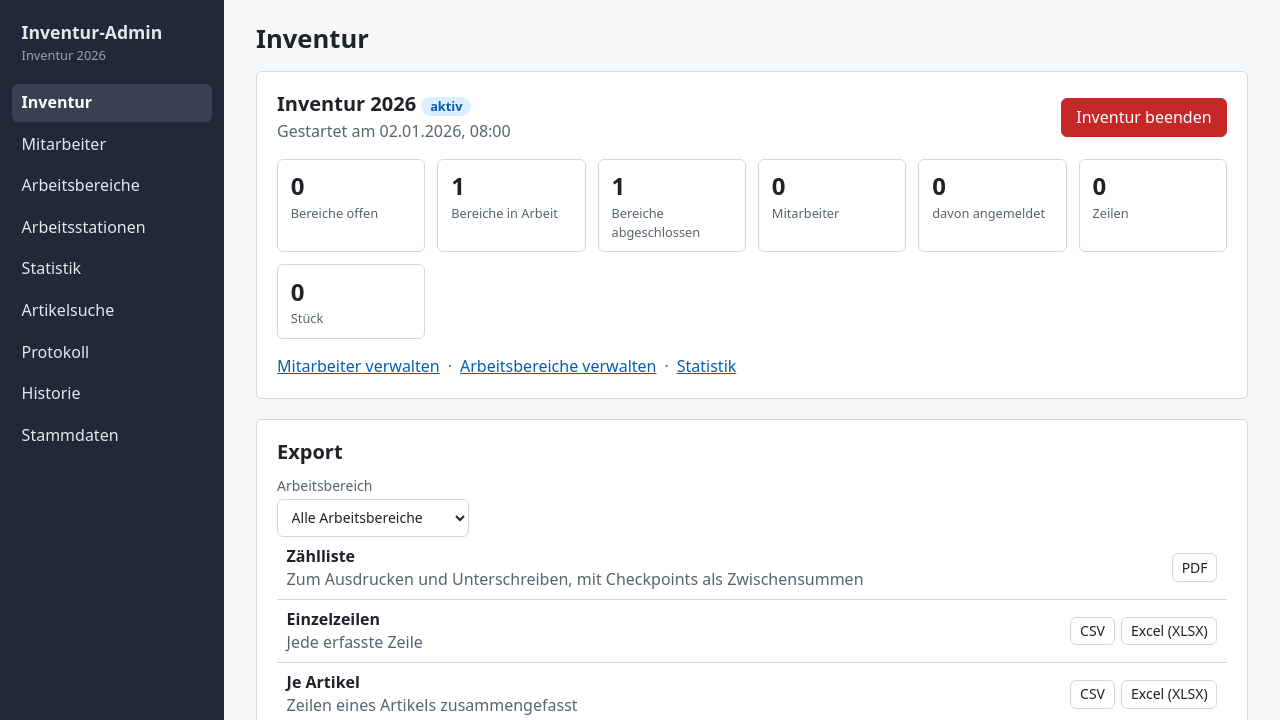
stocktake page › warns about unclosed work areas before finishing
The width and height of the screenshot is (1280, 720).
Step 1. Click the button "Inventur beenden" → (1144, 117), box [1061,98,1227,137]
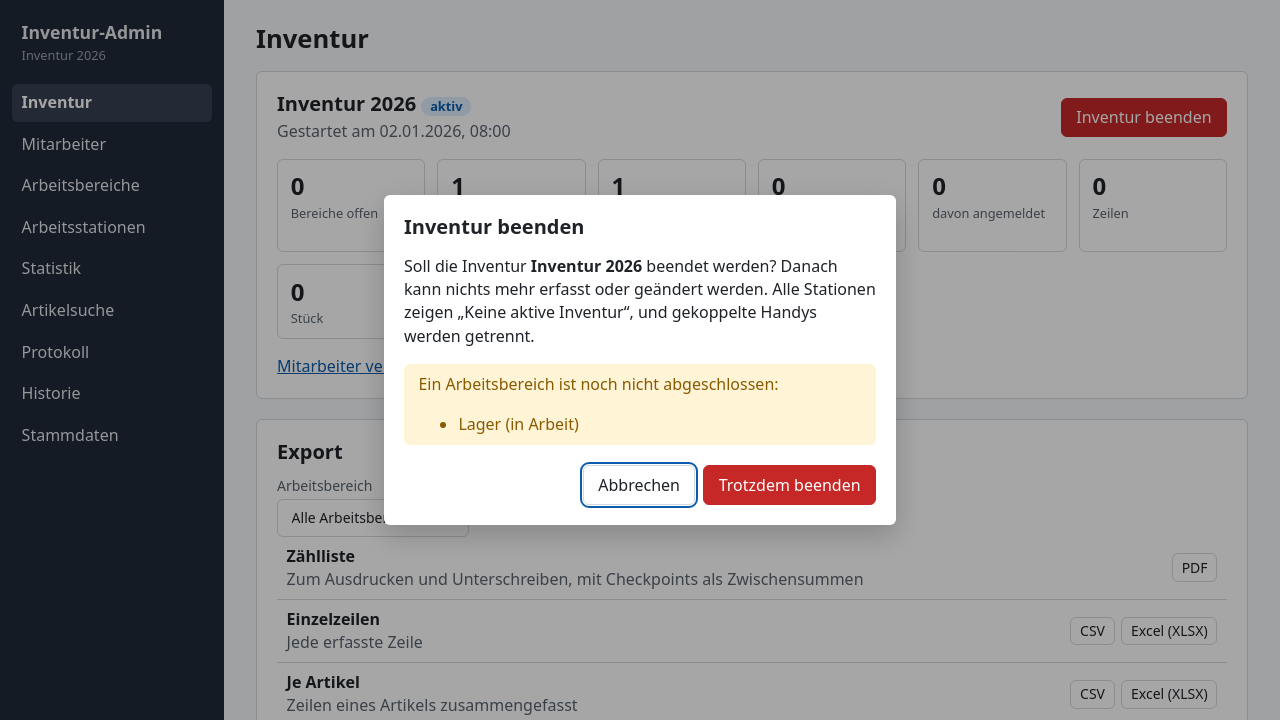
expect the message reads "Ein Arbeitsbereich ist noch nicht abgeschlossen: Lager (in Arbeit)": met, box [404,364,876,445]
Step 2. Click the button "Trotzdem beenden" → (790, 485), box [703,465,876,505]
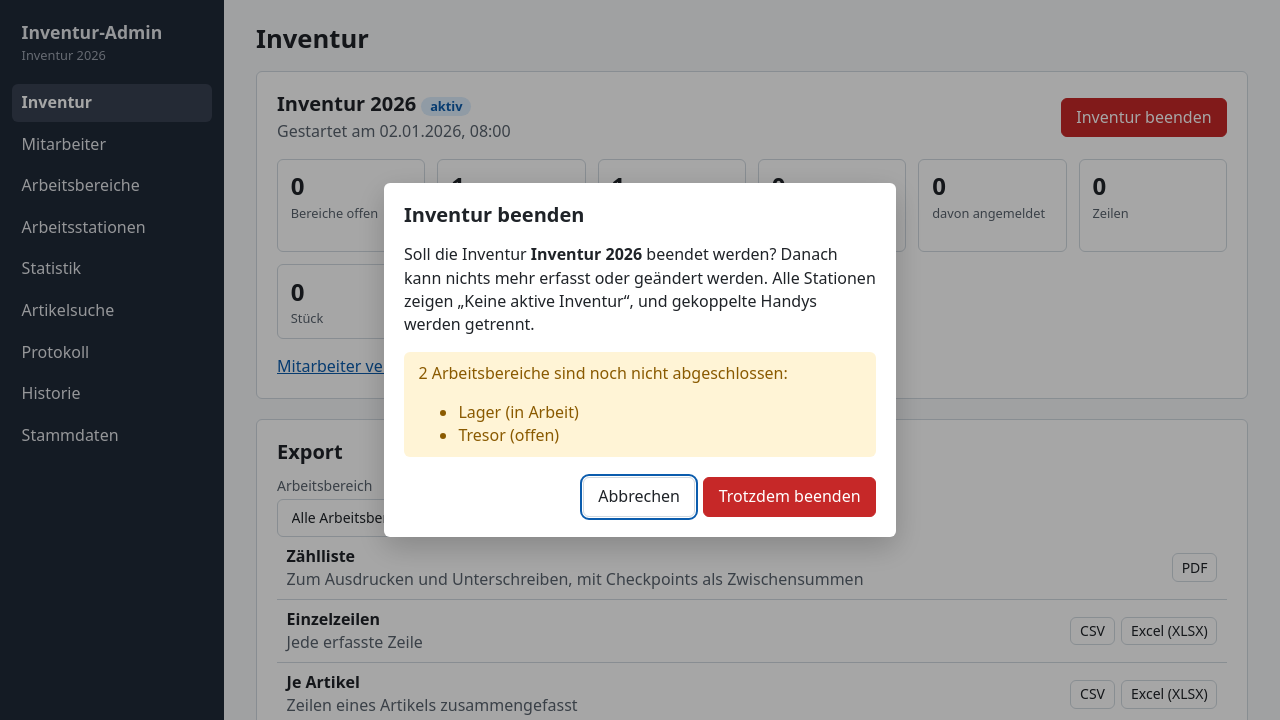
expect the list item "Tresor (offen)" is shown: met, box [458,424,559,446]
expect the message shows "2 Arbeitsbereiche sind noch nicht abgeschlossen:": met, box [418,362,788,384]
Step 3. Click the button "Trotzdem beenden" → (790, 497), box [703,477,876,517]
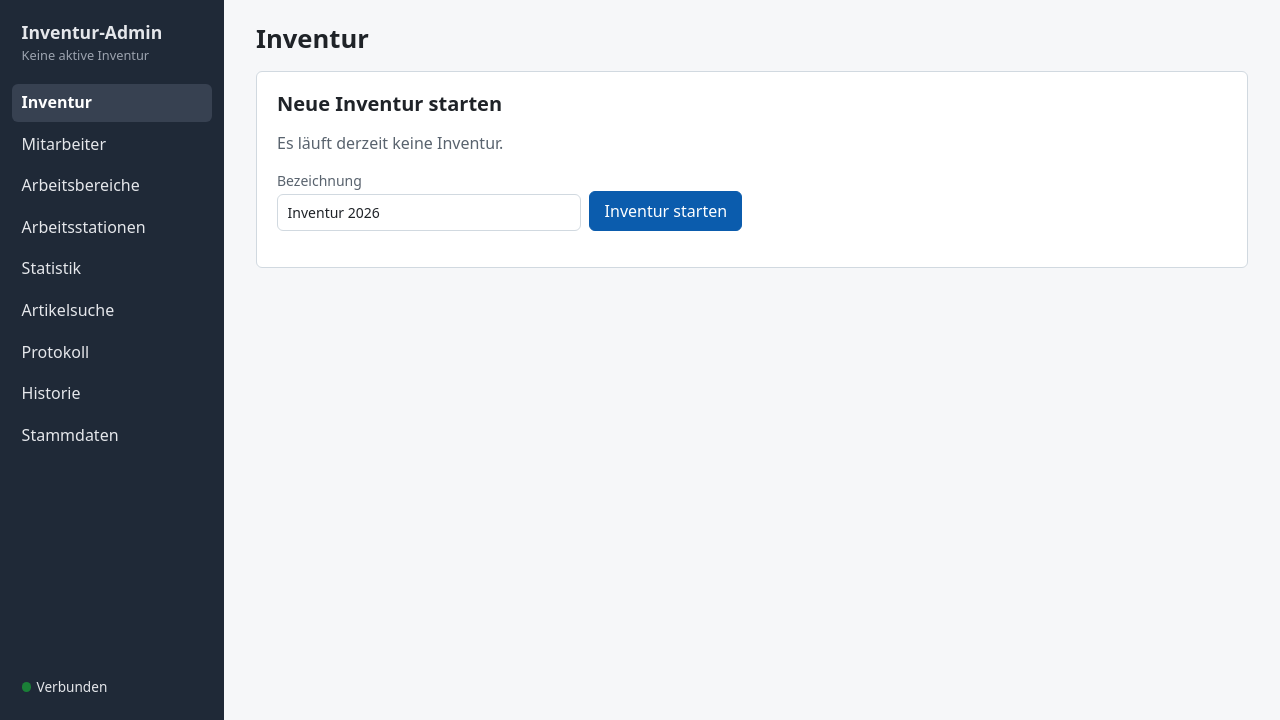
expect the button "Inventur starten" is shown: met, box [589,192,742,231]
expect the dialog is gone: met
